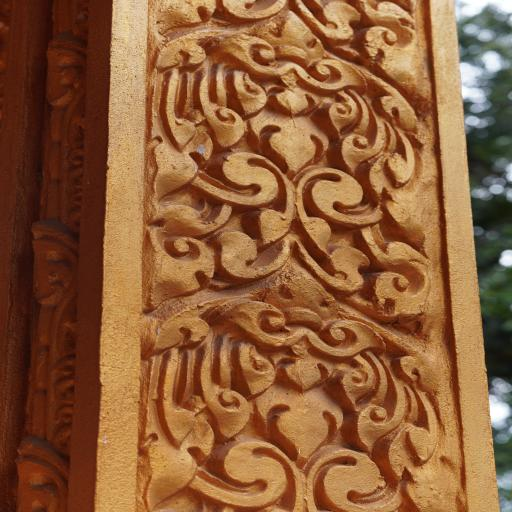la: (149, 27, 435, 295), (143, 296, 466, 510), (148, 0, 431, 24)
